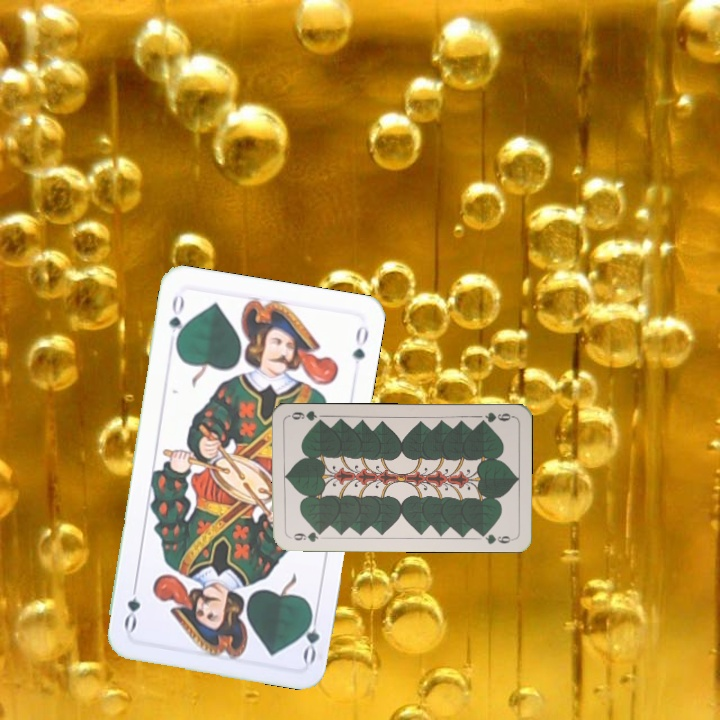G9: (475, 408, 516, 427), (286, 527, 326, 544)
GO: (297, 605, 322, 665), (164, 291, 188, 349)
